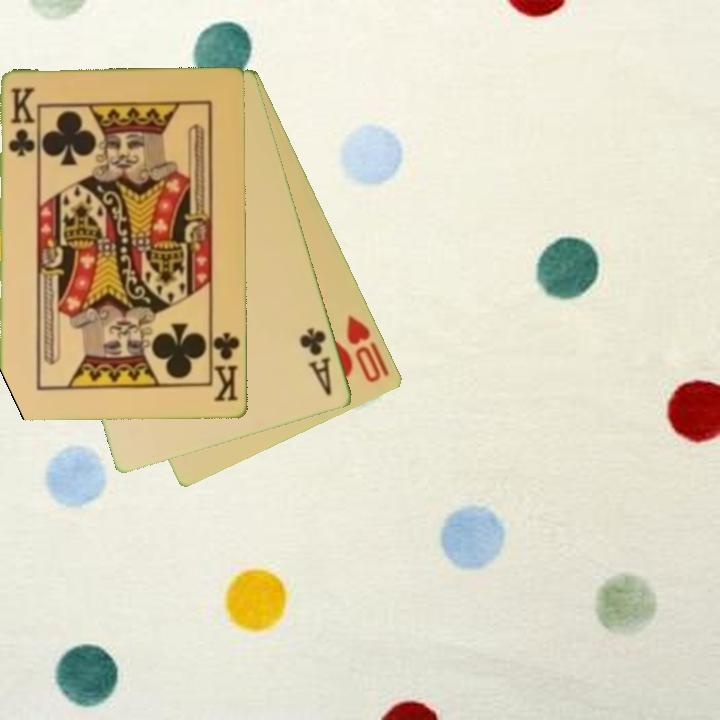10h: (343, 311, 393, 386)
Ac: (296, 324, 335, 399)
Kc: (209, 325, 243, 405), (5, 84, 36, 160)
